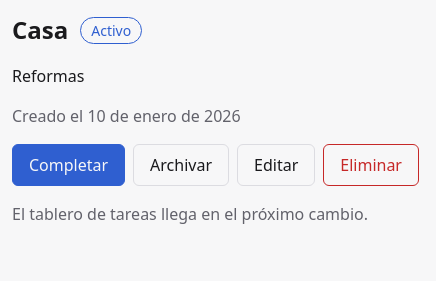
Test: ProjectDetail actions › shows the API message when the project cannot be deleted (409)
Click the button "Eliminar".
click(371, 165)  # box [323,144,419,186]
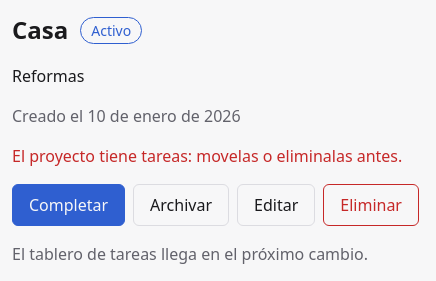
Expected: the message reads "El proyecto tiene tareas: movelas o eliminalas antes.", [12,145,402,167]
